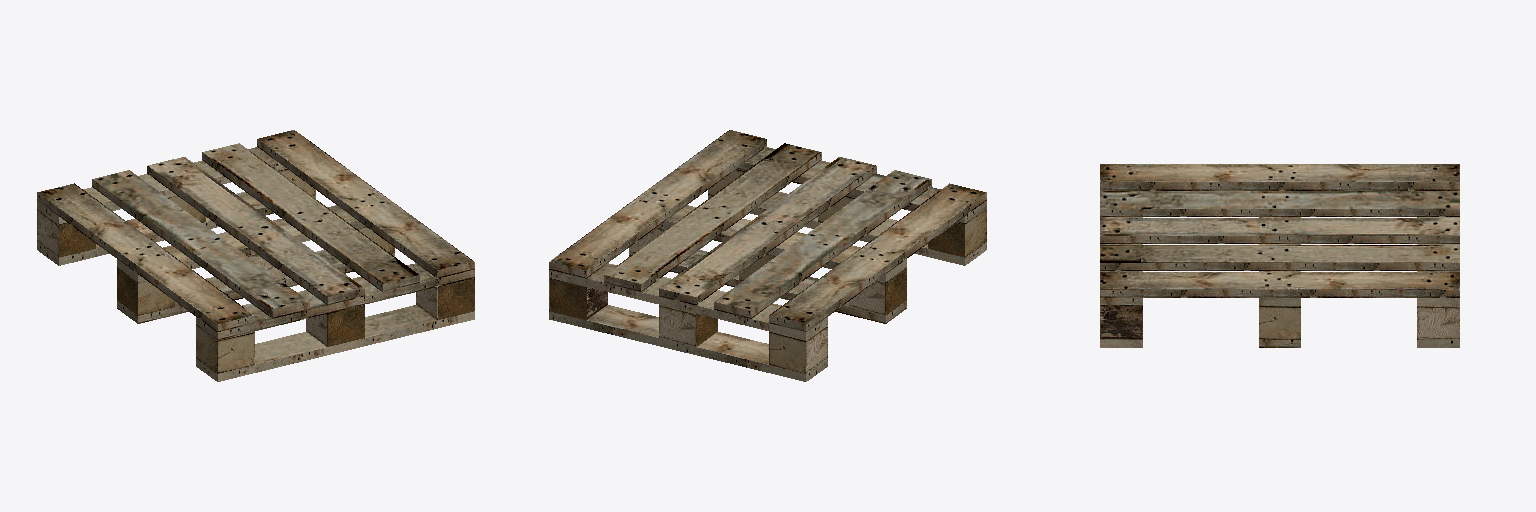
3 views of the same model, side by side, from view 1: azimuth 30°, elevation 25°; view 2: azimuth 150°, elevation 25°; view 3: azimuth 270°, elevation 25° (orthographic).
Parts seen in each view (by area): view 1: Pallet; view 2: Pallet; view 3: Pallet.
Part boxes in pixels (bbox=[...]): Pallet: bbox=[37, 130, 474, 381]; Pallet: bbox=[549, 130, 986, 381]; Pallet: bbox=[1100, 164, 1459, 347].
Bounding box in the file's own units: 0.8 × 0.1725 × 0.9712.
Materials: 1 (1 with a texture image).